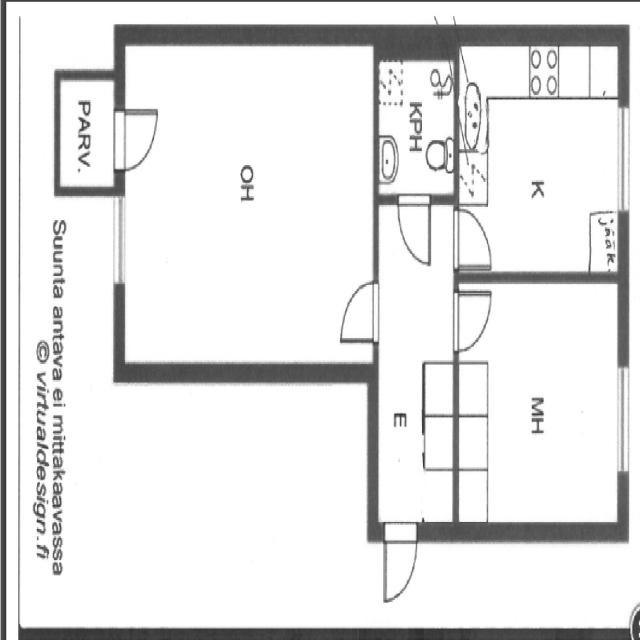door: (110, 97, 159, 171), (380, 518, 421, 606), (333, 274, 382, 346), (451, 282, 494, 354), (451, 203, 494, 271), (396, 191, 433, 268)
window: (613, 354, 633, 483), (614, 97, 632, 220), (111, 186, 128, 292)
zone: (116, 42, 382, 368), (455, 279, 625, 533), (456, 36, 627, 278), (375, 46, 456, 200)
